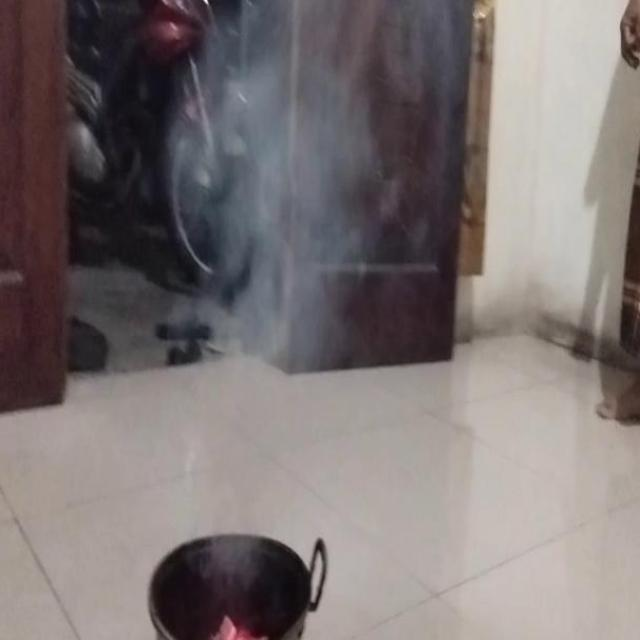fire: (188, 5, 468, 358)
